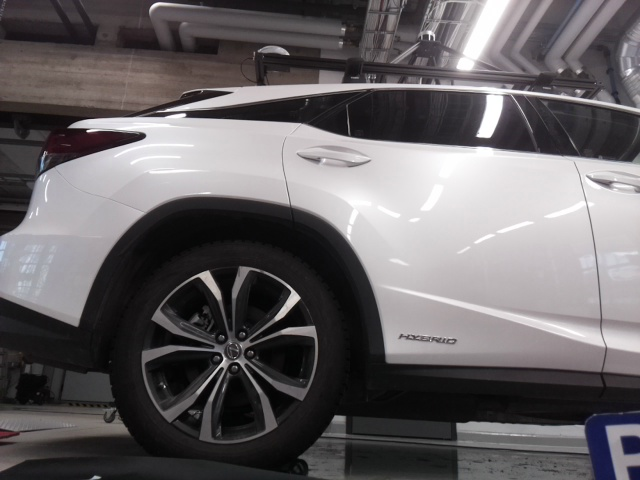Parking: (583, 412, 639, 479)
